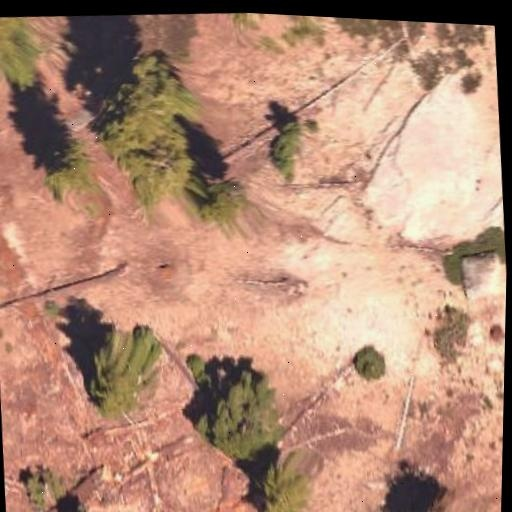tree-top: (75, 37, 205, 208), (62, 308, 172, 424), (179, 352, 284, 470), (27, 128, 100, 203), (247, 453, 317, 512), (0, 13, 57, 84), (189, 169, 247, 233), (269, 121, 304, 173), (58, 507, 103, 512)
